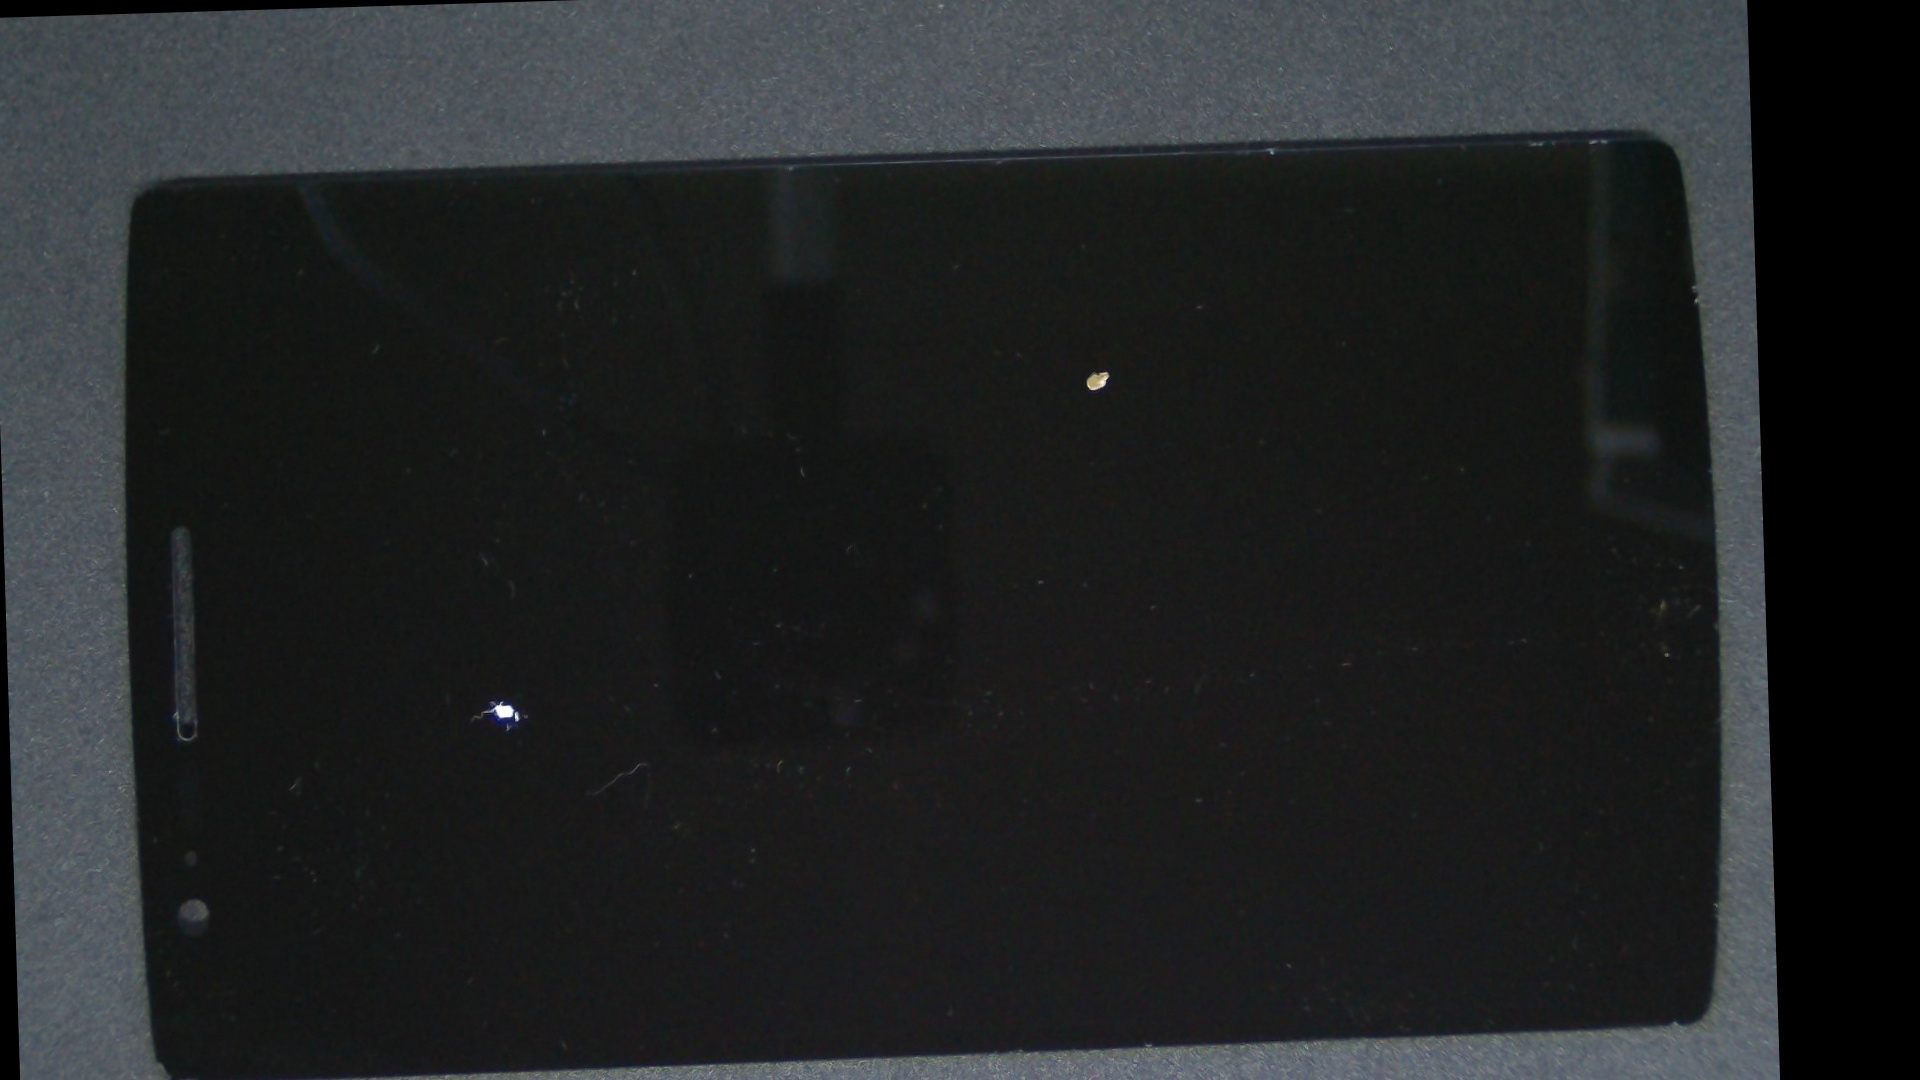oil: (543, 160, 1654, 580), (247, 343, 761, 1056)
